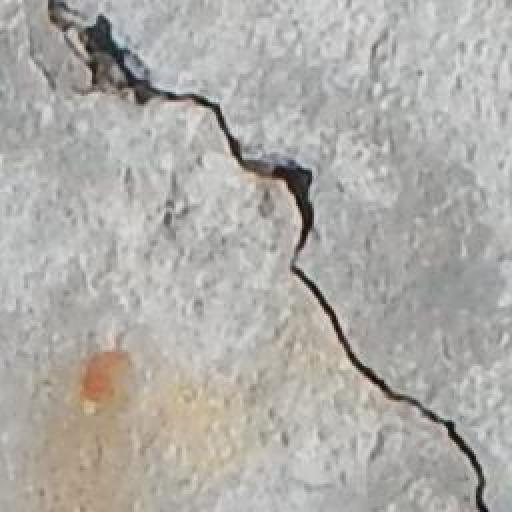spalling: (38, 6, 508, 506)
